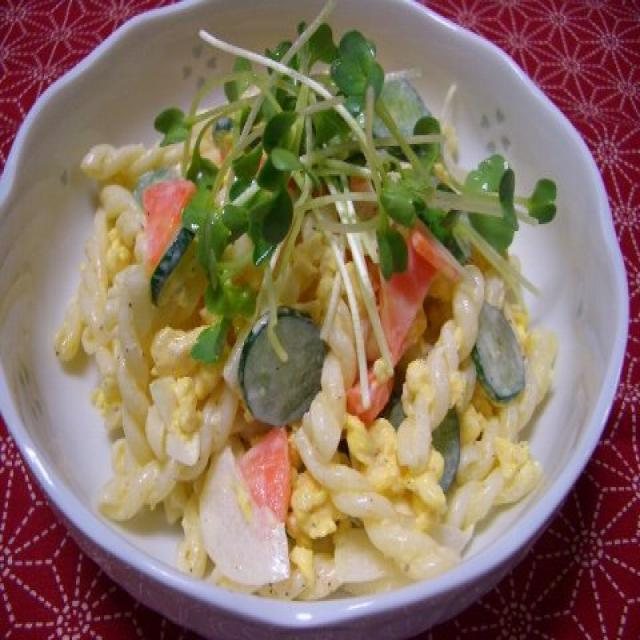蔬菜料理: (0, 0, 633, 640)
